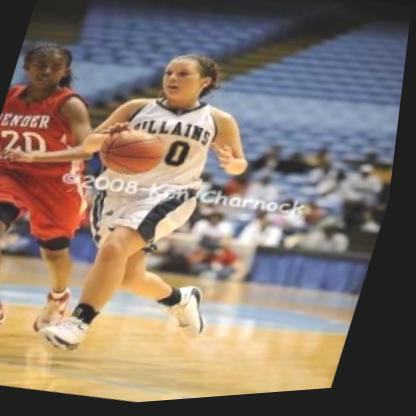basketball: (99, 125, 174, 183)
